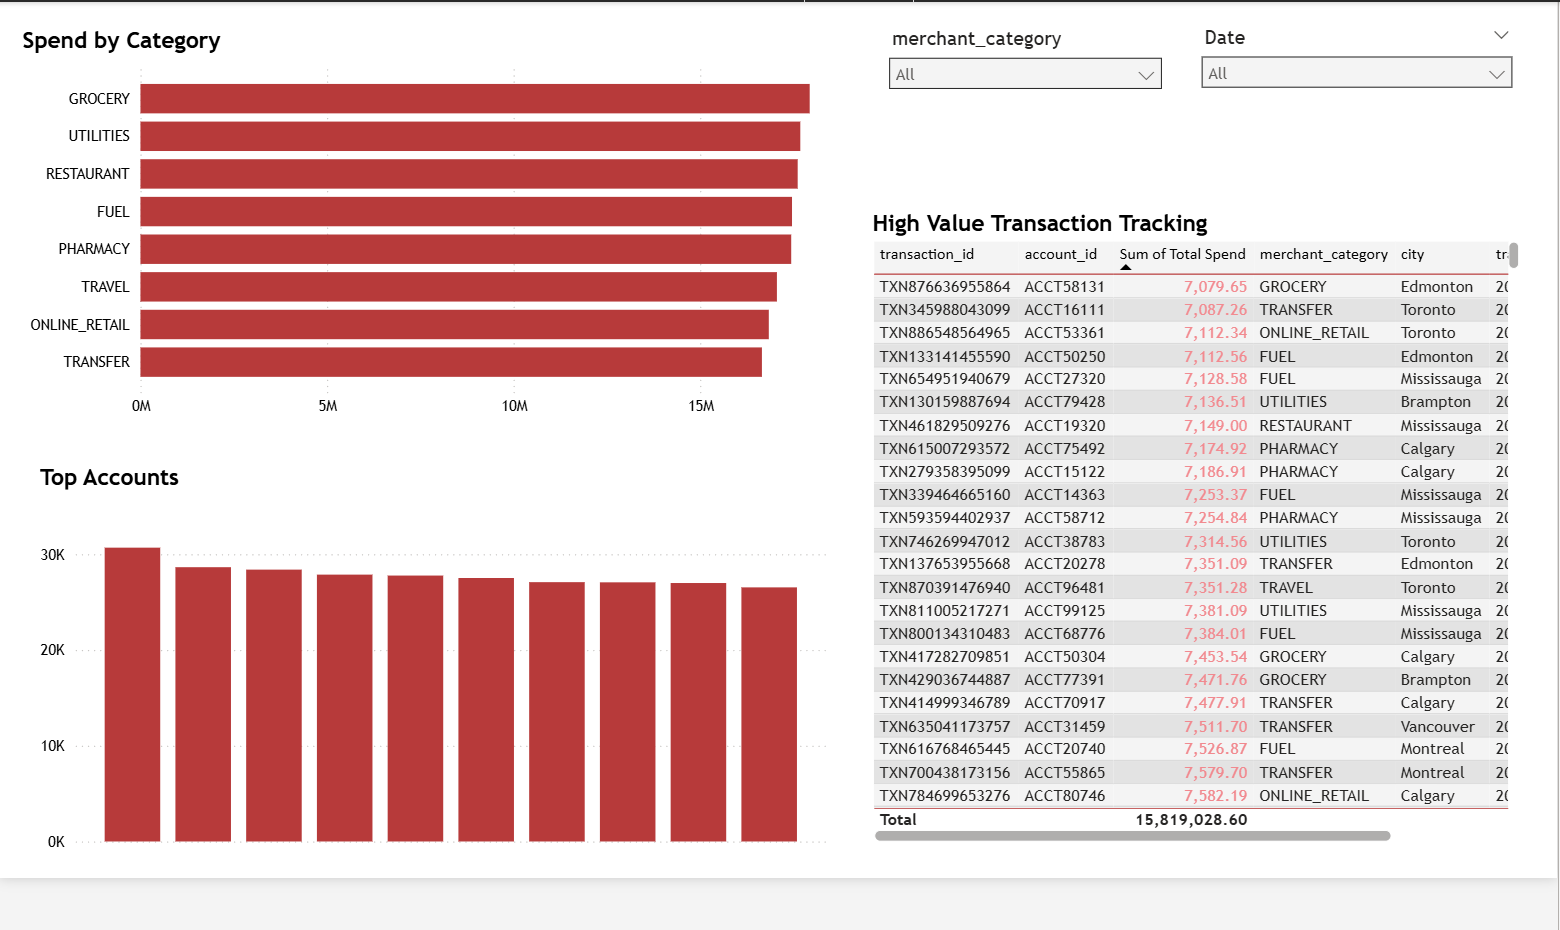

The dashboard page shown, as its layout file describes it:
{"tool":"powerbi","page":{"name":"Spending and Risk Insights","canvas":[1280,720],"ordinal":1},"visuals":[{"type":"clusteredBarChart","title":"Spend by Category","fields":{"Y":["gold_category_kpis.total_amount"],"Category":["gold_category_kpis.merchant_category"]},"box":[14.7,20.3,669.6,327.5],"z":0},{"type":"clusteredColumnChart","title":"Top Accounts","fields":{"Y":["gold_top_accounts_daily.total_spend"],"Category":["gold_top_accounts_daily.account_id"]},"box":[28.8,378.7,655.9,323.8],"z":1000},{"type":"slicer","fields":{"Values":["DateTable.Date"]},"box":[977.8,14.7,275.5,68.9],"z":2000},{"type":"tableEx","title":"High Value Transaction Tracking","fields":{"Values":["gold_high_value_txns.transaction_id","gold_high_value_txns.account_id","gold_high_value_txns.amount","gold_high_value_txns.merchant_category","gold_high_value_txns.city","gold_high_value_txns.transaction_ts"]},"box":[712.5,170.5,540.9,523.9],"z":3000},{"type":"slicer","fields":{"Values":["DimMerchantCategory.merchant_category"]},"box":[720.9,15.1,244.2,68.6],"z":4000}]}

Visuals, with their boxes on the page's 1280x720 design canvas (x1, y1, x2, y2). These are canvas units, not pixel positions in the 1560x930 screenshot, which may show the page scaled, cropped or inside an application window:
"Spend by Category" clusteredBarChart: <bbox>15, 20, 684, 348</bbox>
"Top Accounts" clusteredColumnChart: <bbox>29, 379, 685, 702</bbox>
slicer - DateTable.Date: <bbox>978, 15, 1253, 84</bbox>
"High Value Transaction Tracking" tableEx: <bbox>712, 170, 1253, 694</bbox>
slicer - DimMerchantCategory.merchant_category: <bbox>721, 15, 965, 84</bbox>
